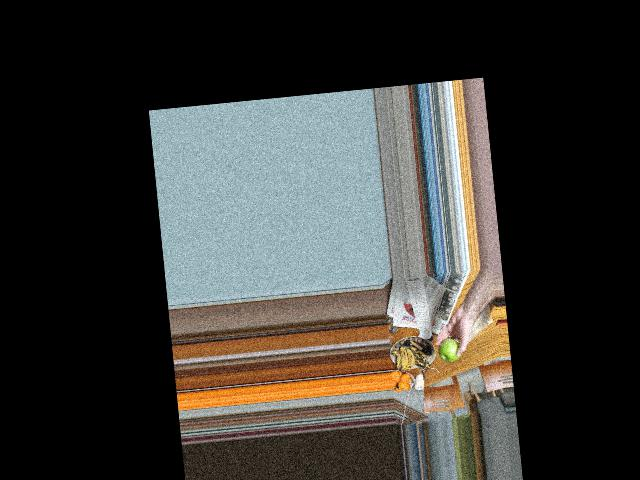apple: (436, 333, 465, 364)
